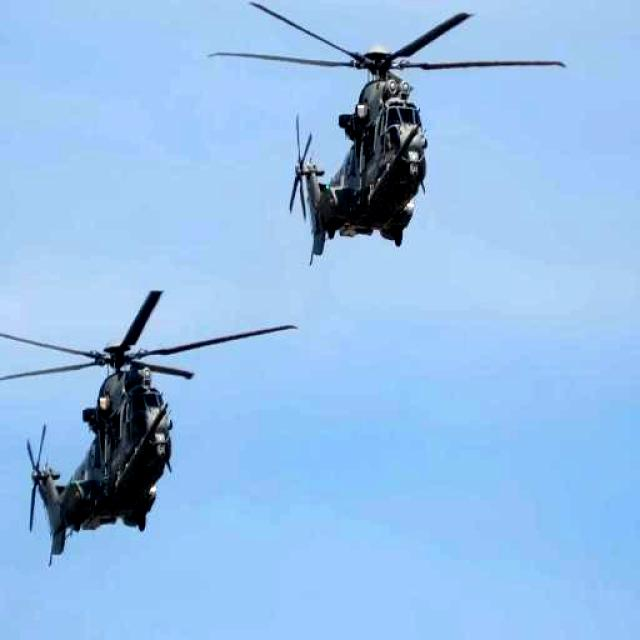drone: (0, 270, 266, 575), (256, 0, 499, 296)
